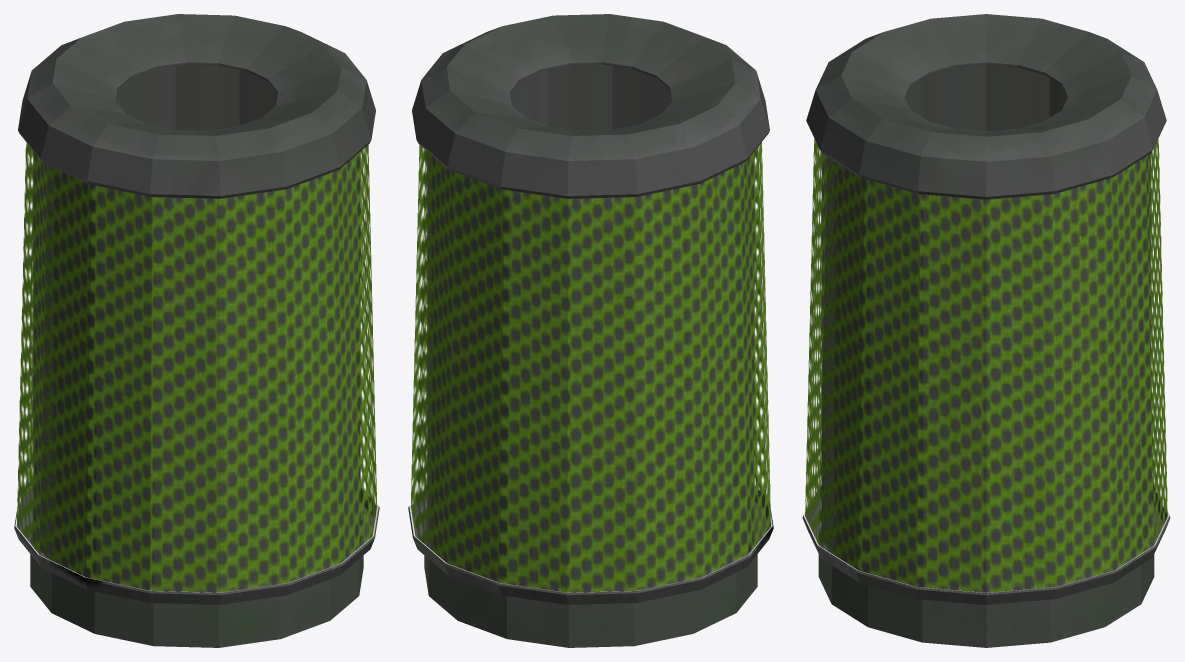
The model's file is strProp_13.glb.
3 views of the same model, side by side, from view 1: azimuth 30°, elevation 25°; view 2: azimuth 150°, elevation 25°; view 3: azimuth 270°, elevation 25° (orthographic).
Visible parts, largest first — view 1: geometry_0; view 2: geometry_0; view 3: geometry_0.
Part boxes in pixels (x1,y1,x2,y2): geometry_0: (14, 14, 379, 647); geometry_0: (408, 14, 773, 647); geometry_0: (802, 14, 1170, 647).
Bounding box in the file's own units: 0.6087 × 0.9156 × 0.6087.
Materials: 1 (1 with a texture image).
